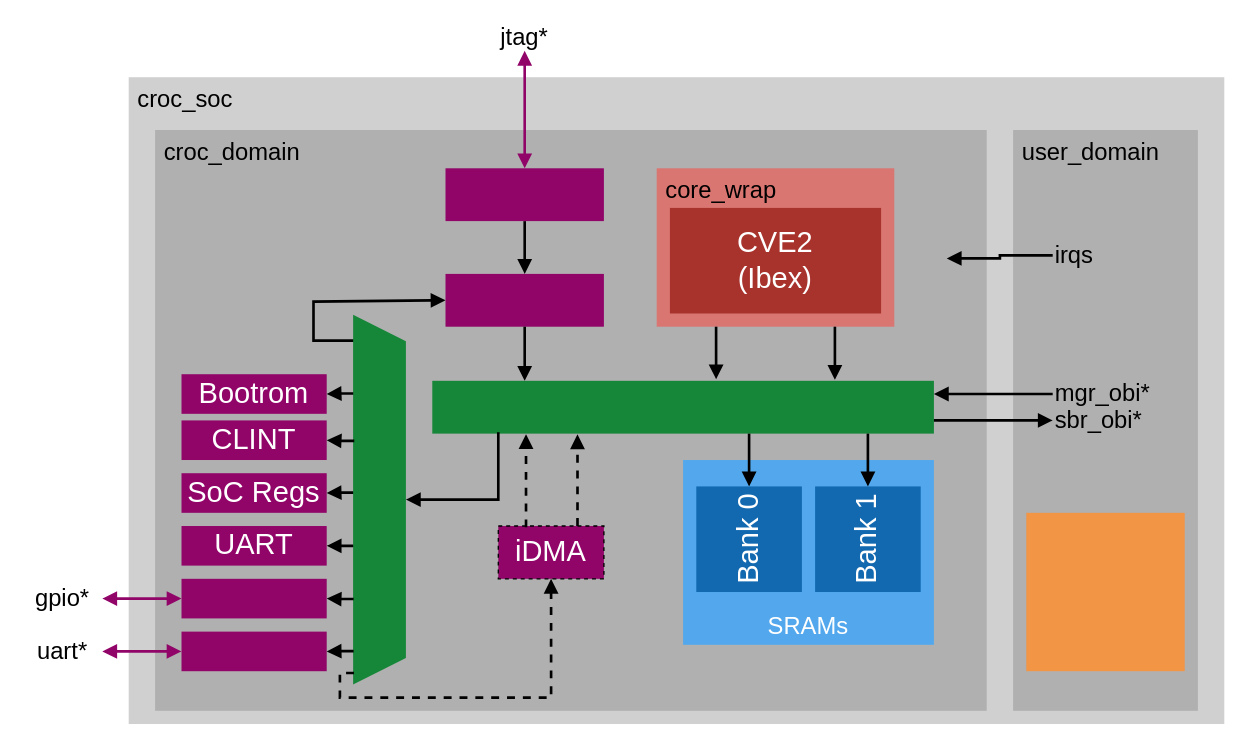
Image size: 1246x746. Some labels were removed from this diagram. The shapes that lost their labels are listed below. From the top down, each one's centre as x and y in pixels, then its label:
point (524, 194): JTAG
point (524, 299): Debug
point (682, 406): OBI Crossbar
point (378, 499): OBI Demux
point (253, 598): GPIO
point (1105, 591): Your Design
point (253, 651): Timer
